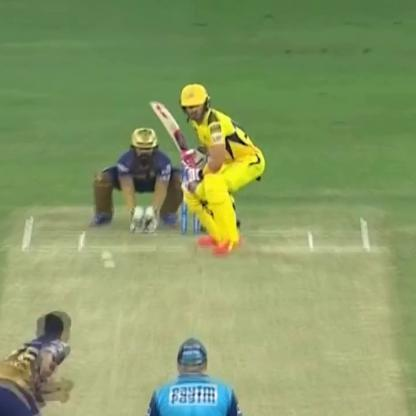ball: (101, 259, 121, 271), (99, 248, 117, 258)
bat: (153, 91, 199, 176)
pitch: (3, 206, 412, 415)
